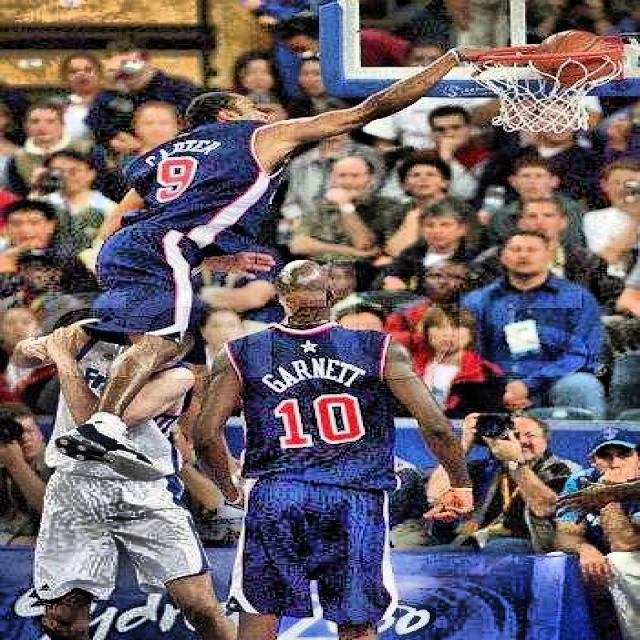rim: (468, 51, 632, 136)
